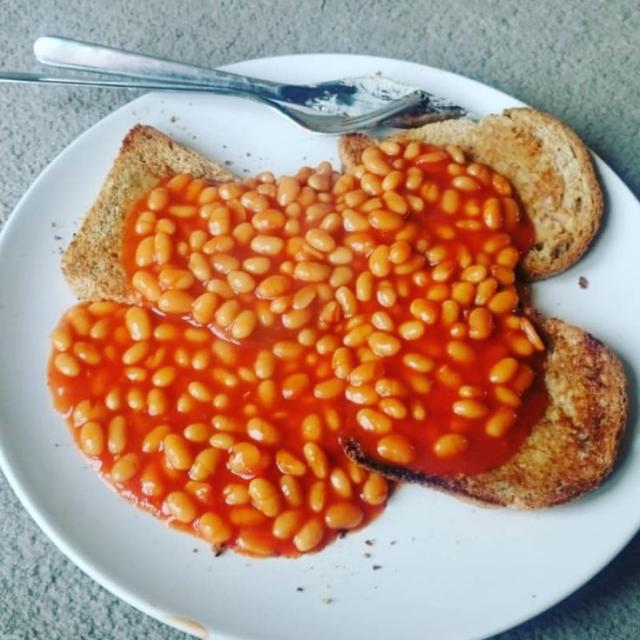beans: (189, 434, 232, 481), (249, 479, 281, 517), (228, 442, 261, 477), (378, 434, 415, 464), (165, 492, 198, 524), (197, 513, 231, 544), (164, 434, 193, 470), (325, 502, 363, 529), (294, 519, 324, 552), (132, 270, 161, 302), (202, 204, 231, 236), (304, 442, 329, 479), (357, 408, 392, 434), (247, 417, 279, 445), (486, 408, 516, 437), (272, 510, 302, 539), (256, 275, 292, 299), (125, 307, 151, 340), (110, 454, 139, 483), (349, 362, 384, 386), (80, 421, 104, 456), (362, 474, 388, 505), (192, 293, 218, 324), (251, 209, 286, 232), (433, 434, 468, 457), (158, 291, 193, 314), (368, 332, 400, 357), (520, 318, 544, 351), (277, 450, 307, 476), (469, 307, 493, 339), (142, 425, 169, 453), (410, 299, 439, 325), (489, 358, 518, 384), (231, 310, 257, 339), (369, 210, 403, 232), (280, 475, 303, 507), (159, 268, 194, 289), (488, 290, 518, 314), (294, 262, 330, 282), (345, 385, 379, 406), (305, 230, 336, 253), (330, 468, 353, 499), (369, 245, 391, 277), (313, 378, 345, 400), (282, 373, 309, 399), (251, 235, 284, 256), (277, 176, 300, 206), (343, 325, 374, 347), (215, 300, 240, 327), (446, 340, 475, 363), (453, 400, 488, 419), (336, 287, 357, 318), (122, 341, 149, 365), (507, 332, 534, 356), (189, 253, 212, 281), (483, 198, 503, 230), (383, 191, 408, 216), (227, 271, 255, 293), (379, 398, 408, 419), (183, 422, 212, 443), (376, 378, 408, 397), (54, 354, 80, 377), (494, 386, 521, 408), (154, 233, 173, 264), (403, 354, 434, 373), (282, 309, 311, 329), (255, 350, 275, 379), (148, 388, 168, 416), (302, 414, 322, 441), (273, 341, 303, 359), (293, 286, 316, 309), (398, 320, 424, 340), (389, 241, 411, 264), (440, 189, 461, 213), (356, 272, 373, 301), (243, 256, 270, 274), (461, 265, 487, 283), (452, 176, 481, 192), (371, 312, 394, 332), (148, 188, 168, 211), (329, 247, 353, 266), (152, 367, 176, 386), (169, 205, 197, 218)
toast bread: (347, 319, 626, 508), (392, 108, 603, 279), (63, 125, 234, 301)
